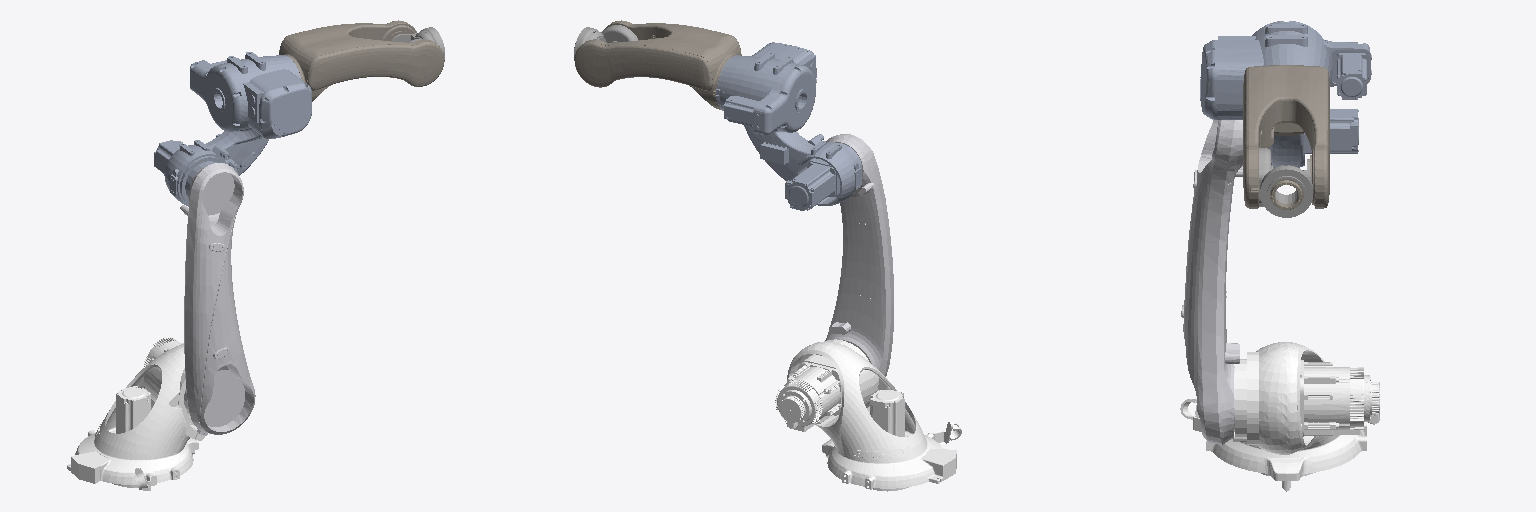
URDF robot description (t12a_14):
<?xml version="1.0" encoding="utf-8"?>
<!-- This URDF was automatically created by SolidWorks to URDF Exporter! Originally created by Stephen Brawner (brawner@gmail.com) 
     Commit Version: 1.5.1-0-g916b5db  Build Version: 1.5.7152.31018
     For more information, please see http://wiki.ros.org/sw_urdf_exporter -->
<robot
  name="t12a_14">
  <link
    name="base_link">
    <inertial>
      <origin
        xyz="-0.026202 -5.6615E-06 -0.32419"
        rpy="0 0 0" />
      <mass
        value="24.743" />
      <inertia
        ixx="0.22929"
        ixy="-2.5474E-05"
        ixz="-0.0067661"
        iyy="0.25857"
        iyz="8.8991E-08"
        izz="0.35423" />
    </inertial>
    <visual>
      <origin
        xyz="0 0 0"
        rpy="0 0 0" />
      <geometry>
        <mesh
          filename="base_link.STL" />
      </geometry>
      <material
        name="">
        <color
          rgba="1 1 1 1" />
      </material>
    </visual>
    <collision>
      <origin
        xyz="0 0 0"
        rpy="0 0 0" />
      <geometry>
        <mesh
          filename="base_link.STL" />
      </geometry>
    </collision>
  </link>
  <link
    name="link1">
    <inertial>
      <origin
        xyz="0.092112 0.0021983 0.35552"
        rpy="0 0 0" />
      <mass
        value="92.922" />
      <inertia
        ixx="0.91785"
        ixy="0.11598"
        ixz="-0.51252"
        iyy="1.5072"
        iyz="0.10434"
        izz="1.1773" />
    </inertial>
    <visual>
      <origin
        xyz="0 0 0"
        rpy="0 0 0" />
      <geometry>
        <mesh
          filename="link1.STL" />
      </geometry>
      <material
        name="">
        <color
          rgba="1 1 1 1" />
      </material>
    </visual>
    <collision>
      <origin
        xyz="0 0 0"
        rpy="0 0 0" />
      <geometry>
        <mesh
          filename="link1.STL" />
      </geometry>
    </collision>
  </link>
  <joint
    name="joint1"
    type="revolute">
    <origin
      xyz="0 0 -0.4295"
      rpy="0 0 0" />
    <parent
      link="base_link" />
    <child
      link="link1" />
    <axis
      xyz="0 0 1" />
    <limit
      lower="-6"
      upper="6"
      effort="3"
      velocity="1" />
  </joint>
  <link
    name="link2">
    <inertial>
      <origin
        xyz="-0.027043 -0.033948 0.26711"
        rpy="0 0 0" />
      <mass
        value="5.7331" />
      <inertia
        ixx="0.20461"
        ixy="-0.0011744"
        ixz="0.0047342"
        iyy="0.2122"
        iyz="-0.0061702"
        izz="0.015602" />
    </inertial>
    <visual>
      <origin
        xyz="0 0 0"
        rpy="0 0 0" />
      <geometry>
        <mesh
          filename="link2.STL" />
      </geometry>
      <material
        name="">
        <color
          rgba="0.86667 0.86667 0.8902 1" />
      </material>
    </visual>
    <collision>
      <origin
        xyz="0 0 0"
        rpy="0 0 0" />
      <geometry>
        <mesh
          filename="link2.STL" />
      </geometry>
    </collision>
  </link>
  <joint
    name="joint2"
    type="revolute">
    <origin
      xyz="0.185 -0.112 0.4295"
      rpy="0 0 0" />
    <parent
      link="link1" />
    <child
      link="link2" />
    <axis
      xyz="0 1 0" />
    <limit
      lower="-3"
      upper="3"
      effort="3"
      velocity="1" />
  </joint>
  <link
    name="link3">
    <inertial>
      <origin
        xyz="0.1327 0.069142 0.13907"
        rpy="0 0 0" />
      <mass
        value="10.938" />
      <inertia
        ixx="0.11262"
        ixy="0.0003687"
        ixz="-0.051466"
        iyy="0.1499"
        iyz="0.00089358"
        izz="0.099566" />
    </inertial>
    <visual>
      <origin
        xyz="0 0 0"
        rpy="0 0 0" />
      <geometry>
        <mesh
          filename="link3.STL" />
      </geometry>
      <material
        name="">
        <color
          rgba="0.66667 0.69804 0.76471 1" />
      </material>
    </visual>
    <collision>
      <origin
        xyz="0 0 0"
        rpy="0 0 0" />
      <geometry>
        <mesh
          filename="link3.STL" />
      </geometry>
    </collision>
  </link>
  <joint
    name="joint3"
    type="revolute">
    <origin
      xyz="0 0.0295 0.6"
      rpy="0 0 0" />
    <parent
      link="link2" />
    <child
      link="link3" />
    <axis
      xyz="0 1 0" />
    <limit
      lower="-3"
      upper="3"
      effort="3"
      velocity="1" />
  </joint>
  <link
    name="link4">
    <inertial>
      <origin
        xyz="0.16791 -0.00053942 0.038523"
        rpy="0 0 0" />
      <mass
        value="35.046" />
      <inertia
        ixx="0.1265"
        ixy="-0.0094445"
        ixz="0.053284"
        iyy="0.50177"
        iyz="-0.00051127"
        izz="0.53515" />
    </inertial>
    <visual>
      <origin
        xyz="0 0 0"
        rpy="0 0 0" />
      <geometry>
        <mesh
          filename="link4.STL" />
      </geometry>
      <material
        name="">
        <color
          rgba="0.64706 0.61961 0.58824 1" />
      </material>
    </visual>
    <collision>
      <origin
        xyz="0 0 0"
        rpy="0 0 0" />
      <geometry>
        <mesh
          filename="link4.STL" />
      </geometry>
    </collision>
  </link>
  <joint
    name="joint4"
    type="revolute">
    <origin
      xyz="0.294 0.0825 0.2"
      rpy="0 0 0" />
    <parent
      link="link3" />
    <child
      link="link4" />
    <axis
      xyz="1 0 0" />
    <limit
      lower="-6"
      upper="6"
      effort="3"
      velocity="1" />
  </joint>
  <link
    name="link5">
    <inertial>
      <origin
        xyz="0.031715 -0.05859 -2.3356E-05"
        rpy="0 0 0" />
      <mass
        value="4.0172" />
      <inertia
        ixx="0.0078838"
        ixy="-0.0017238"
        ixz="1.7394E-06"
        iyy="0.0088051"
        iyz="1.0632E-06"
        izz="0.0098724" />
    </inertial>
    <visual>
      <origin
        xyz="0 0 0"
        rpy="0 0 0" />
      <geometry>
        <mesh
          filename="link5.STL" />
      </geometry>
      <material
        name="">
        <color
          rgba="0.69804 0.69804 0.69804 1" />
      </material>
    </visual>
    <collision>
      <origin
        xyz="0 0 0"
        rpy="0 0 0" />
      <geometry>
        <mesh
          filename="link5.STL" />
      </geometry>
    </collision>
  </link>
  <joint
    name="joint5"
    type="revolute">
    <origin
      xyz="0.356 0.0475 0"
      rpy="0 0 0" />
    <parent
      link="link4" />
    <child
      link="link5" />
    <axis
      xyz="0 1 0" />
    <limit
      lower="-3"
      upper="3"
      effort="3"
      velocity="1" />
  </joint>
  <link
    name="link6">
    <inertial>
      <origin
        xyz="-0.010044 6.1766E-05 -8.6324E-05"
        rpy="0 0 0" />
      <mass
        value="0.2048" />
      <inertia
        ixx="0.00018236"
        ixy="-9.7114E-08"
        ixz="1.2088E-07"
        iyy="9.5755E-05"
        iyz="-1.0896E-09"
        izz="9.5884E-05" />
    </inertial>
    <visual>
      <origin
        xyz="0 0 0"
        rpy="0 0 0" />
      <geometry>
        <mesh
          filename="link6.STL" />
      </geometry>
      <material
        name="">
        <color
          rgba="0.64706 0.61961 0.58824 1" />
      </material>
    </visual>
    <collision>
      <origin
        xyz="0 0 0"
        rpy="0 0 0" />
      <geometry>
        <mesh
          filename="link6.STL" />
      </geometry>
    </collision>
  </link>
  <joint
    name="joint6"
    type="revolute">
    <origin
      xyz="0.091998 -0.0475 0"
      rpy="0 0 0" />
    <parent
      link="link5" />
    <child
      link="link6" />
    <axis
      xyz="1 0 0" />
    <limit
      lower="-6"
      upper="6"
      effort="3"
      velocity="1" />
  </joint>
</robot>

--- Render facts (derived) ---
3 views of the same robot in one strip: view 1: azimuth 30°, elevation 25°; view 2: azimuth 150°, elevation 25°; view 3: azimuth 270°, elevation 25° (orthographic).
Model t12a_14 with 7 links and 6 joints (6 revolute), rooted at base_link, posed all joints at 0.
Links seen in each view (by area): view 1: link2, link3, link1, link4; view 2: link1, link3, link2, link4, link5; view 3: link1, link2, link3, link4, link5.
Link boxes in pixels (x1=…): link2: x1=180, y1=163, x2=255, y2=435; link3: x1=154, y1=52, x2=311, y2=206; link1: x1=67, y1=337, x2=204, y2=490; link4: x1=279, y1=20, x2=444, y2=101; link1: x1=775, y1=339, x2=961, y2=491; link3: x1=716, y1=42, x2=861, y2=210; link2: x1=825, y1=134, x2=893, y2=376; link4: x1=575, y1=20, x2=741, y2=109; link5: x1=574, y1=25, x2=637, y2=60; link1: x1=1180, y1=342, x2=1379, y2=491; link2: x1=1181, y1=120, x2=1242, y2=444; link3: x1=1200, y1=21, x2=1371, y2=167; link4: x1=1243, y1=65, x2=1329, y2=208; link5: x1=1259, y1=148, x2=1312, y2=217.
Bounding box of the posed robot: 1.11 × 0.4047 × 1.14 m (x, y, z).
Meshes: 7 distinct files referenced, 6 mesh visuals loaded (6 binary STL); not drawn: 1 (reference not matched to a file when rendering).
